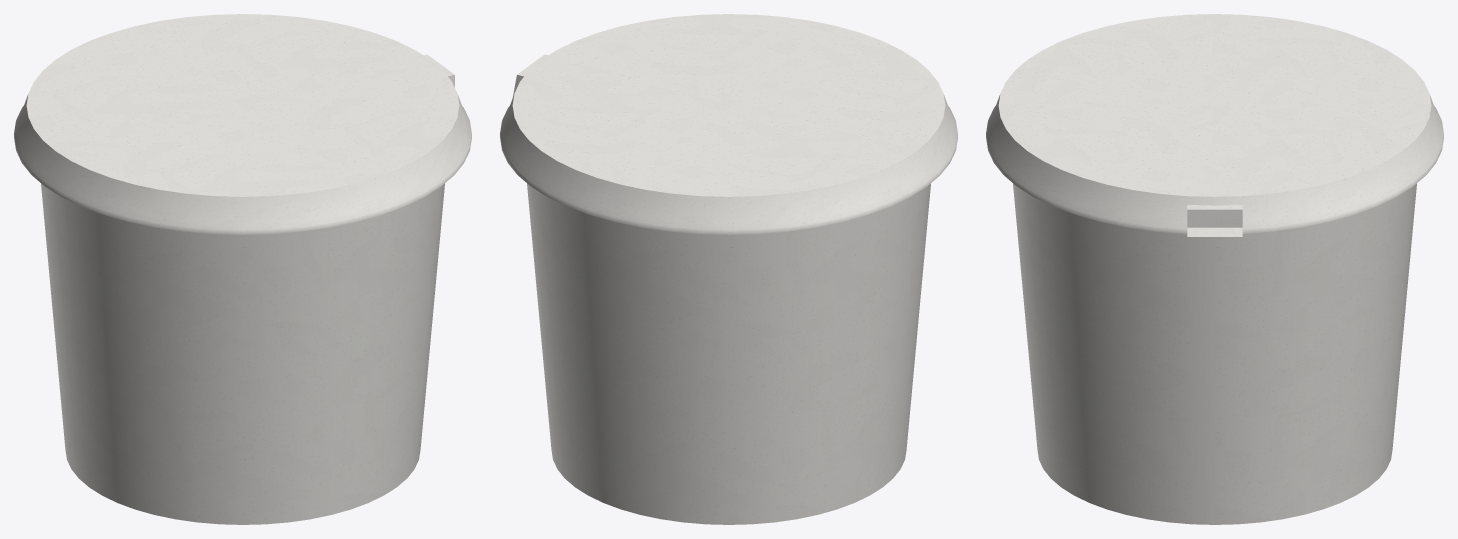
File: dairy-products-container.glb
3 views of the same model, side by side, from view 1: azimuth 30°, elevation 25°; view 2: azimuth 150°, elevation 25°; view 3: azimuth 270°, elevation 25° (orthographic).
Visible parts, largest first — view 1: DairyProductsContainer; view 2: DairyProductsContainer; view 3: DairyProductsContainer.
Part boxes in pixels (x1,y1,x2,y2): DairyProductsContainer: (14,14,471,524); DairyProductsContainer: (500,14,957,524); DairyProductsContainer: (986,14,1443,524).
Size of the model in its own units: 0.0834 by 0.0685 by 0.0825.
Materials: 1 (1 with a texture image).
